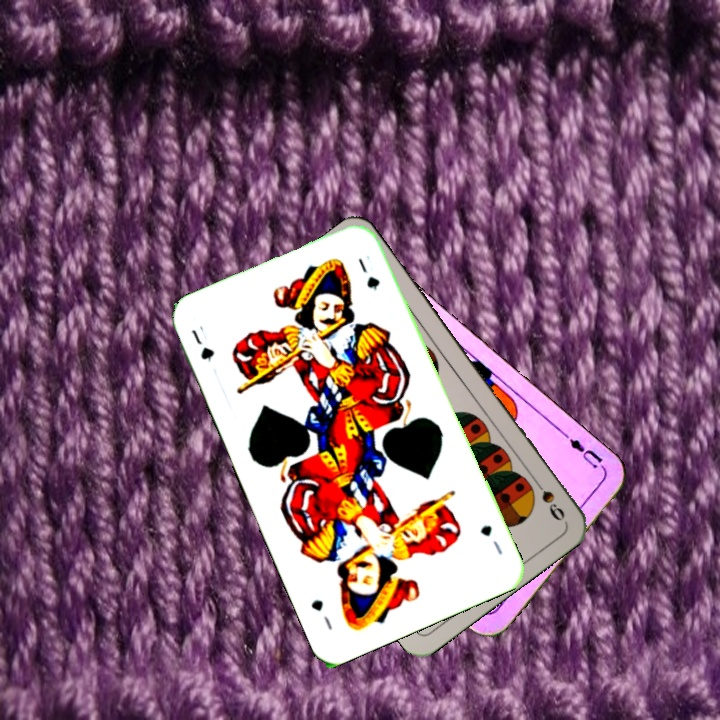EU: (560, 429, 609, 474)
GU: (187, 325, 217, 364), (476, 521, 506, 557)
S9: (527, 472, 568, 524)
